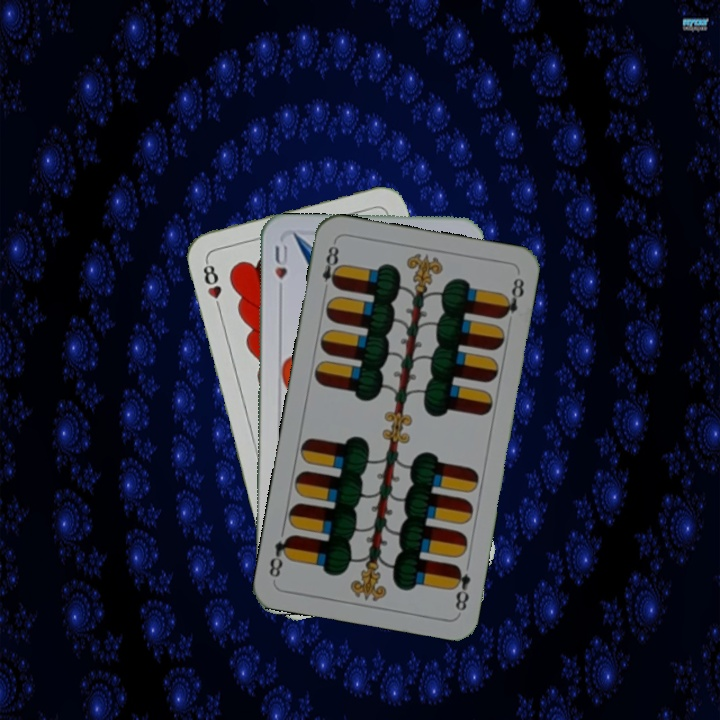E8: (318, 238, 343, 297), (447, 560, 473, 614)
H8: (199, 256, 224, 315)
HU: (271, 241, 290, 298)
